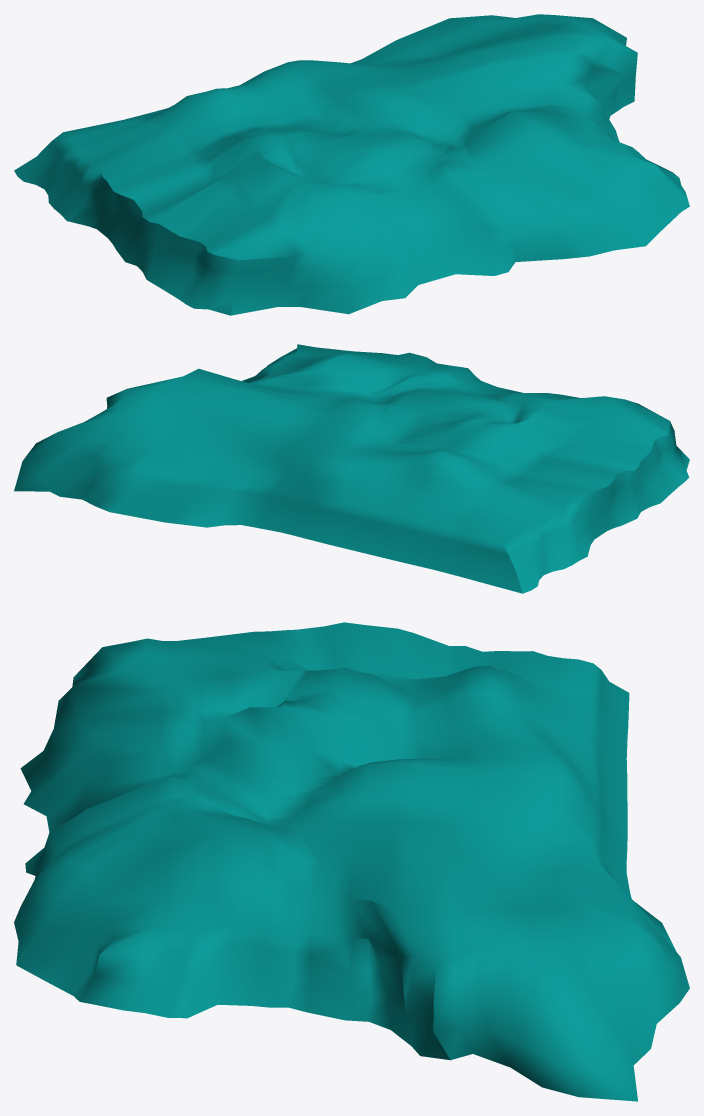
Rendered from fol_rock_04_uv.fbx.
3 views of the same model, one above another, from view 1: azimuth 30°, elevation 25°; view 2: azimuth 150°, elevation 25°; view 3: azimuth 270°, elevation 25° (orthographic). The views are drawn at different scales.
Parts seen in each view (by area): view 1: fol_rock_04_uv; view 2: fol_rock_04_uv; view 3: fol_rock_04_uv.
Part boxes in pixels (left/top/right/bottom): fol_rock_04_uv: left=14, top=14, right=689, bottom=315; fol_rock_04_uv: left=14, top=344, right=689, bottom=593; fol_rock_04_uv: left=14, top=622, right=689, bottom=1101.
Size of the model in its own units: 25.26 by 4.25 by 18.37.
